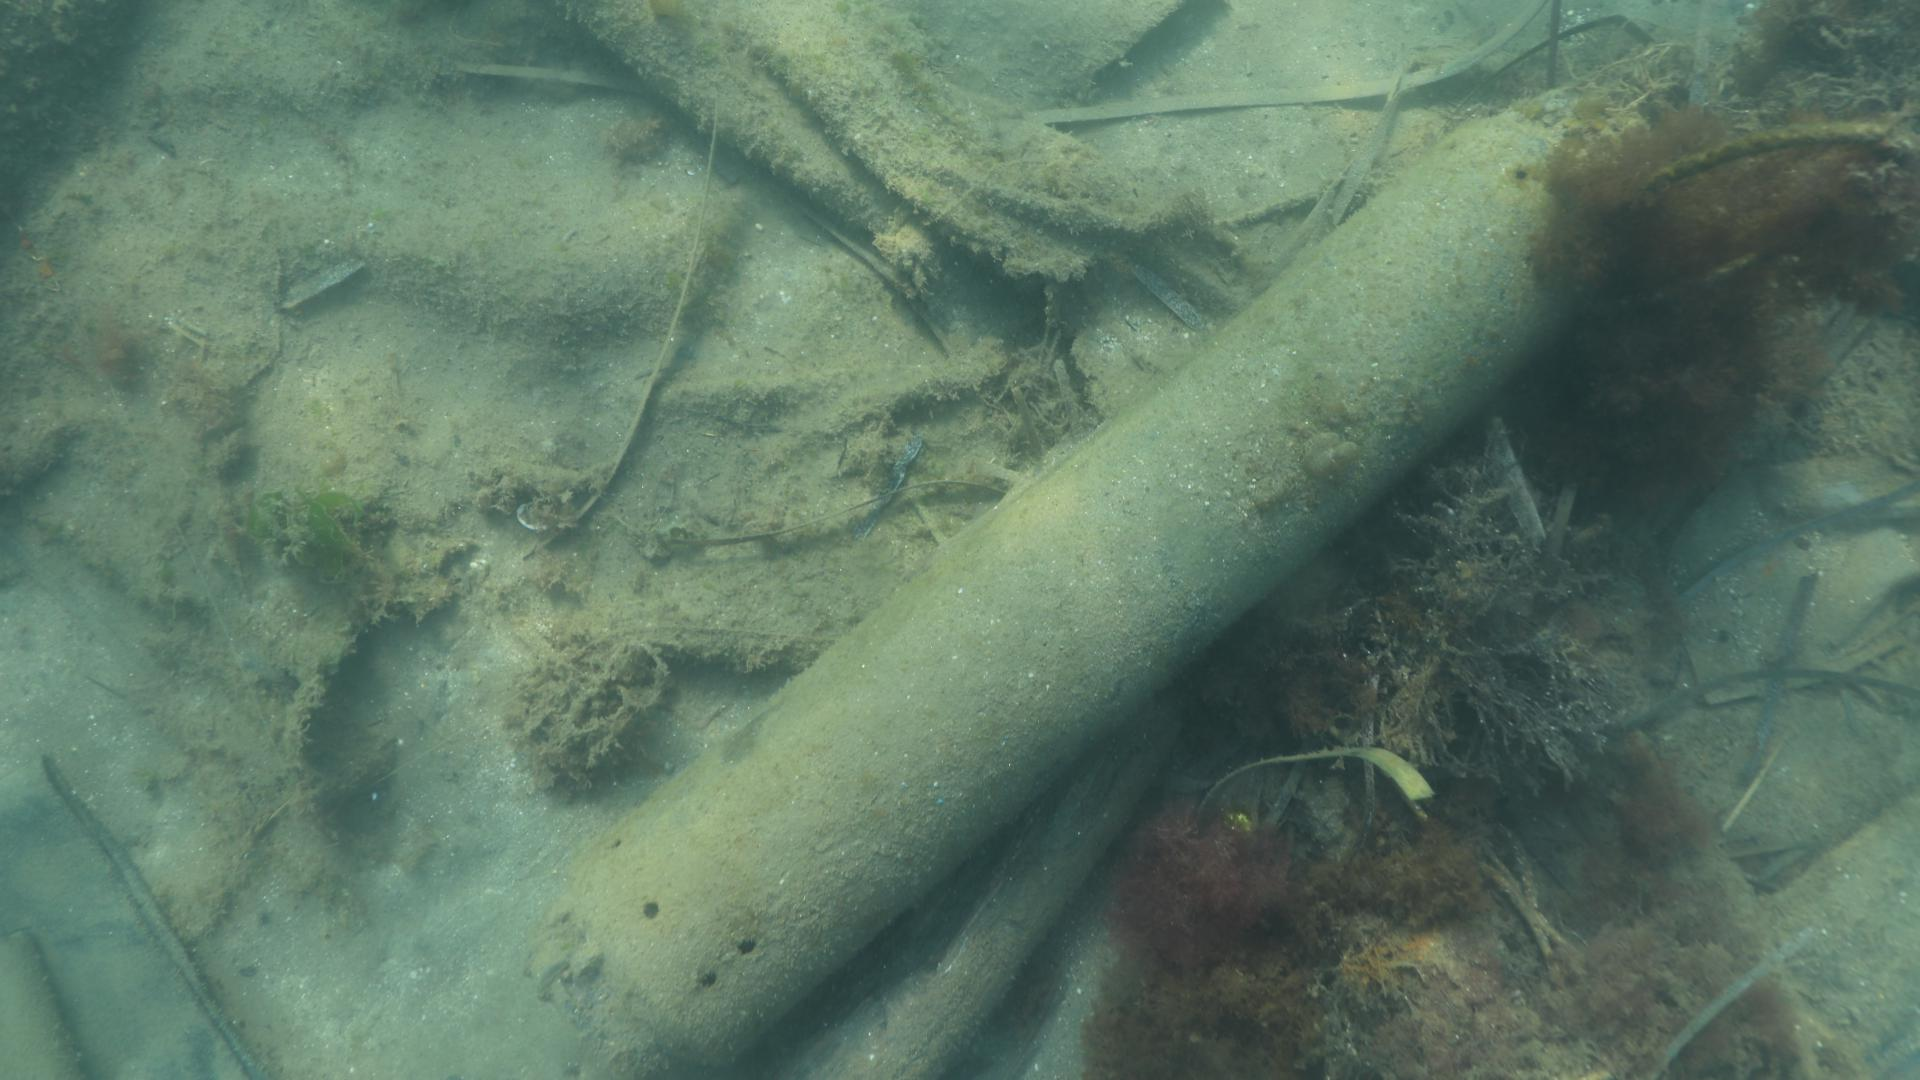eel fish trap: (567, 67, 1676, 1054)
